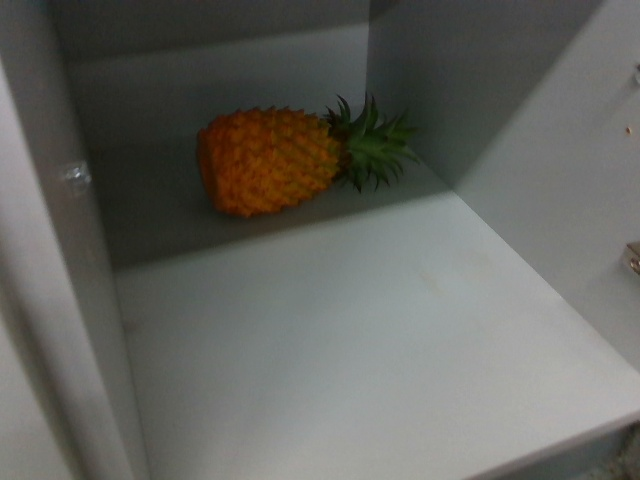pineapple: (197, 91, 412, 212)
